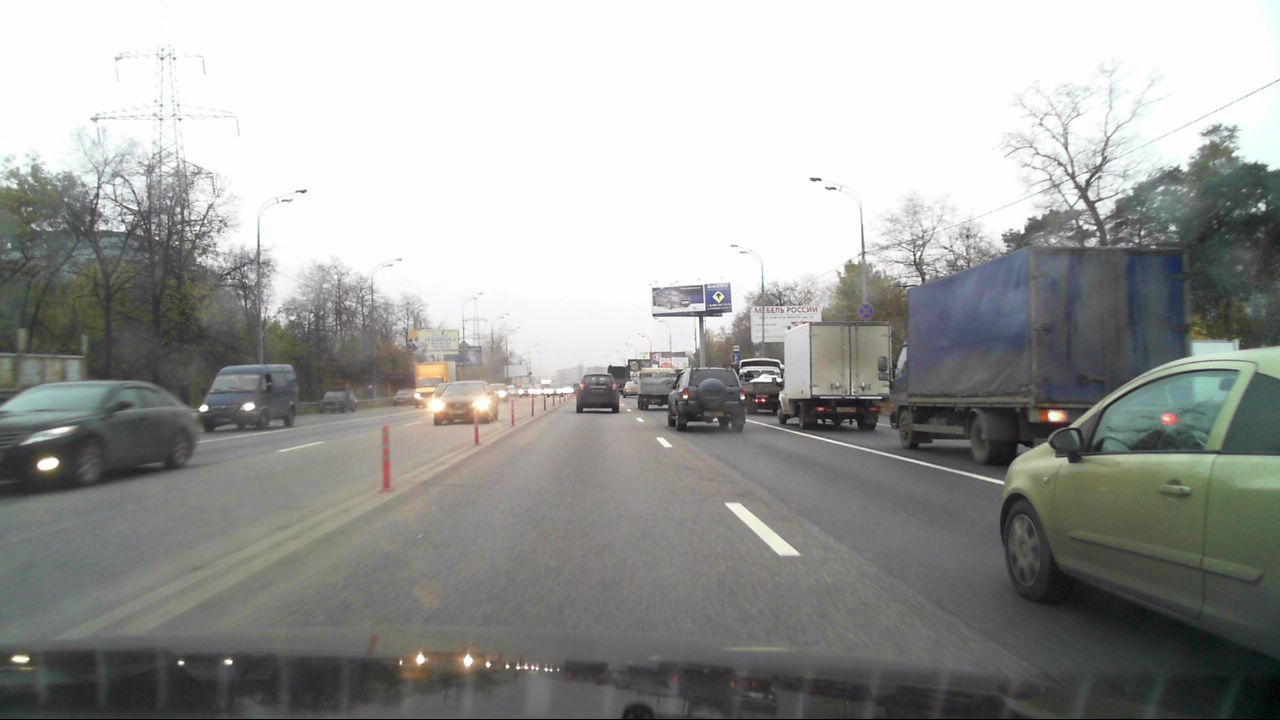No Parking: (856, 302, 876, 323)
